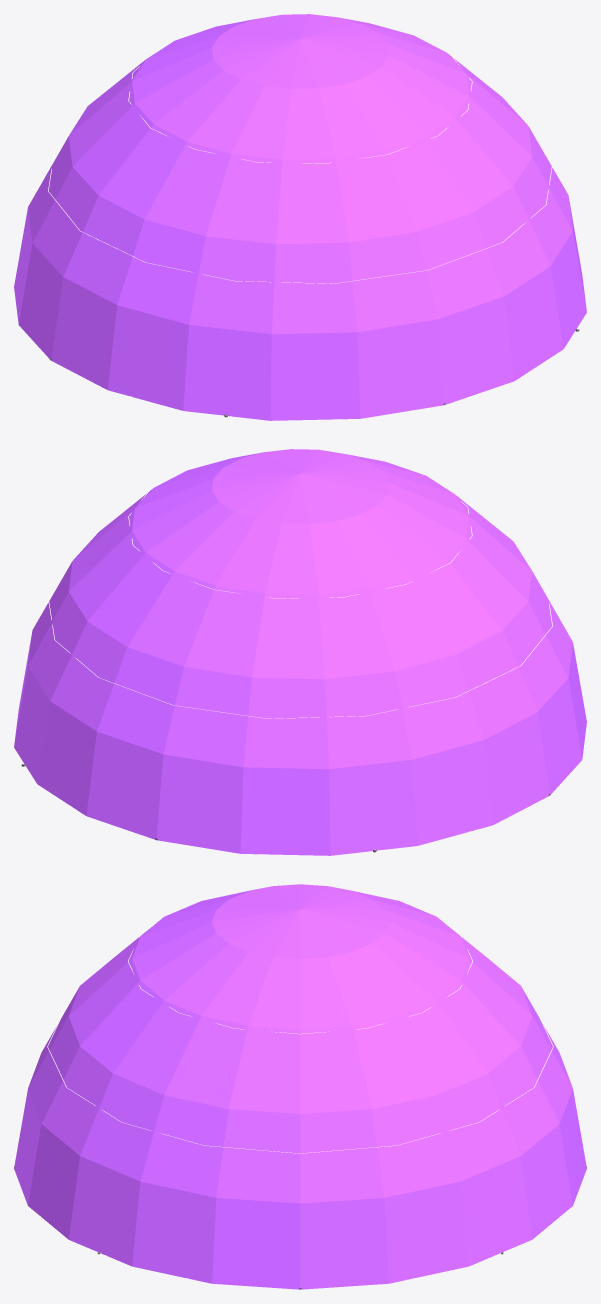
The model's file is lockdownDome.glb.
3 views of the same model, one above another, from view 1: azimuth 30°, elevation 25°; view 2: azimuth 150°, elevation 25°; view 3: azimuth 270°, elevation 25° (orthographic).
Visible parts, largest first — view 1: Field.Pivot, Field.Latitude.00; view 2: Field.Pivot, Field.Latitude.00; view 3: Field.Pivot, Field.Latitude.00.
Part boxes in pixels (x1=…): Field.Pivot: x1=14, y1=14, x2=586, y2=420; Field.Latitude.00: x1=48, y1=139, x2=552, y2=283; Field.Pivot: x1=14, y1=449, x2=586, y2=855; Field.Latitude.00: x1=48, y1=574, x2=552, y2=718; Field.Pivot: x1=14, y1=884, x2=586, y2=1289; Field.Latitude.00: x1=47, y1=1004, x2=553, y2=1153.
Size of what is drawn, in the model's own units: 520 by 260 by 520.
3 materials, 1 textured.
